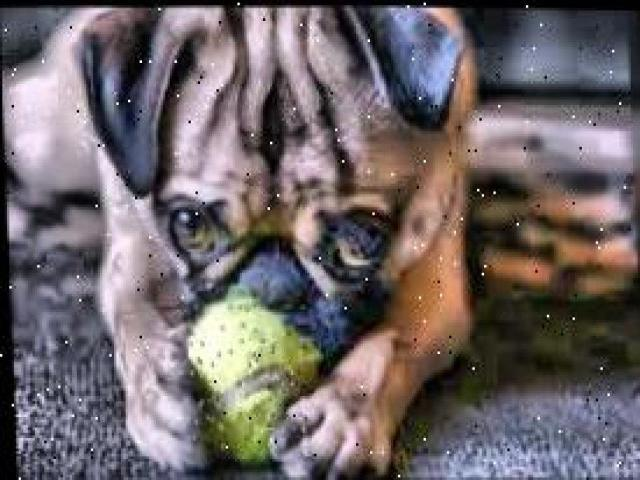tennis-ball: (185, 298, 311, 462)
